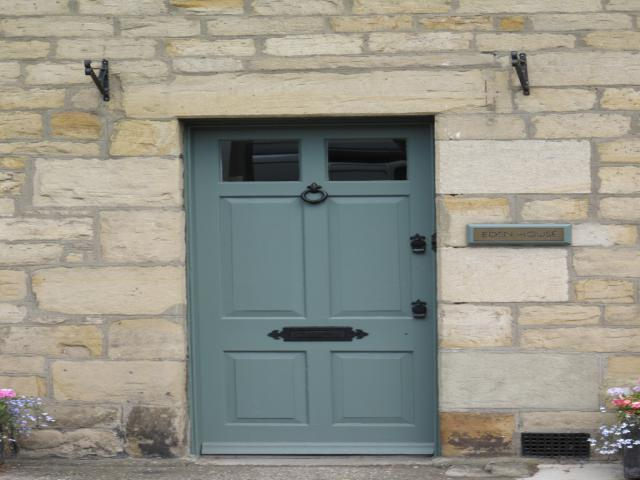Door-handle: (298, 182, 330, 206), (409, 298, 432, 320), (405, 233, 429, 254)
